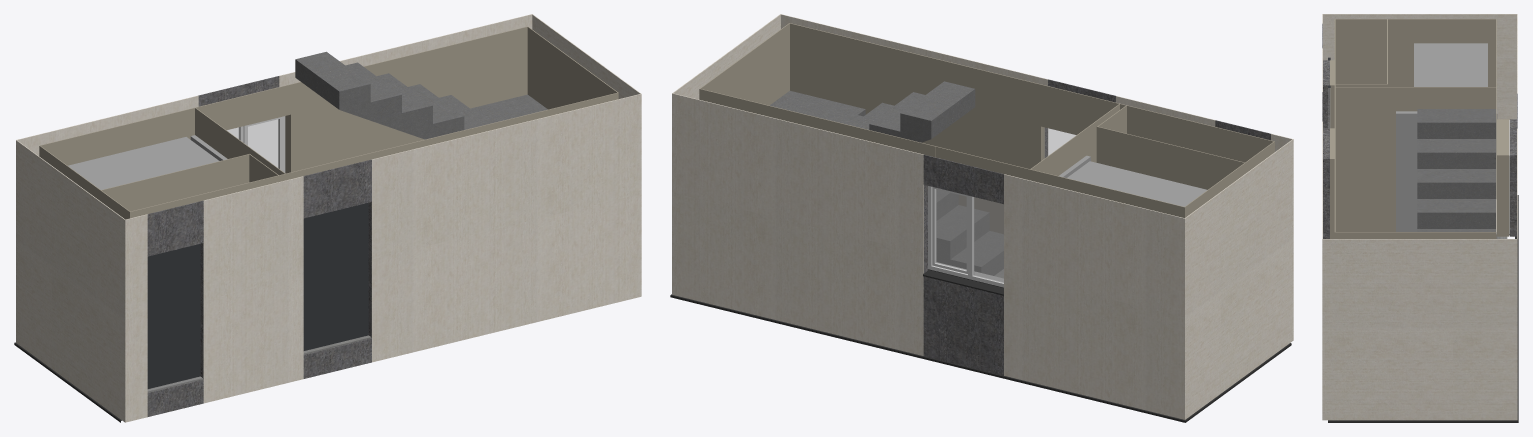
File: Trepikoda_1K.glb
3 views of the same model, side by side, from view 1: azimuth 30°, elevation 25°; view 2: azimuth 150°, elevation 25°; view 3: azimuth 270°, elevation 25° (orthographic). The views are drawn at different scales.
Parts seen in each view (by area): view 1: Kiudtsementplaat_054, Kiudtsementplaat_058, Uks_ (×2), UTypeStair001, Box094, Aken_Tava_138; view 2: Kiudtsementplaat_054, Kiudtsementplaat_058, UTypeStair001, Aken_Tava_138, Box094, Veeplekk_elementide_vahel_060; view 3: Kiudtsementplaat_054, Kiudtsementplaat_058, UTypeStair001, Box094, Box093, Veeplekk_elementide_vahel_059, Veeplekk_elementide_vahel_060, Aken_Tava_138.
Part boxes in pixels (<box>): Kiudtsementplaat_054: <box>16,14,641,422</box>; Kiudtsementplaat_058: <box>39,26,618,219</box>; Uks_ (×2): <box>147,202,368,388</box>; UTypeStair001: <box>295,51,547,139</box>; Box094: <box>68,137,219,189</box>; Aken_Tava_138: <box>227,116,285,172</box>; Kiudtsementplaat_054: <box>672,14,1293,419</box>; Kiudtsementplaat_058: <box>699,23,1274,233</box>; UTypeStair001: <box>770,81,1003,275</box>; Aken_Tava_138: <box>923,186,1003,295</box>; Box094: <box>1067,161,1206,206</box>; Veeplekk_elementide_vahel_060: <box>670,295,1185,422</box>; Kiudtsementplaat_054: <box>1322,14,1517,420</box>; Kiudtsementplaat_058: <box>1328,19,1509,238</box>; UTypeStair001: <box>1417,109,1495,231</box>; Box094: <box>1414,43,1487,86</box>; Box093: <box>1396,109,1497,238</box>; Veeplekk_elementide_vahel_059: <box>1328,420,1518,422</box>; Veeplekk_elementide_vahel_060: <box>1515,195,1518,420</box>; Aken_Tava_138: <box>1496,120,1518,236</box>.
Bounding box in the file's own units: 8.35 × 3.53 × 3.06.
11 materials, 4 textured.
